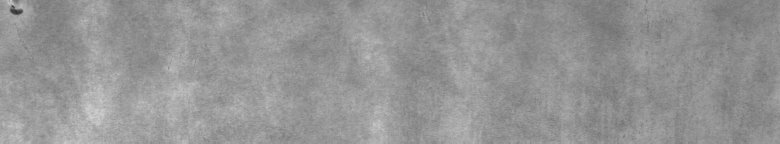fi: (8, 4, 27, 22)
